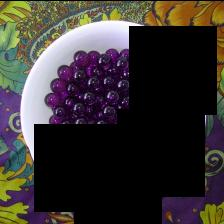purple: (44, 46, 182, 185)
